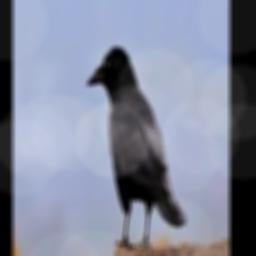Crow: (86, 45, 187, 248)
